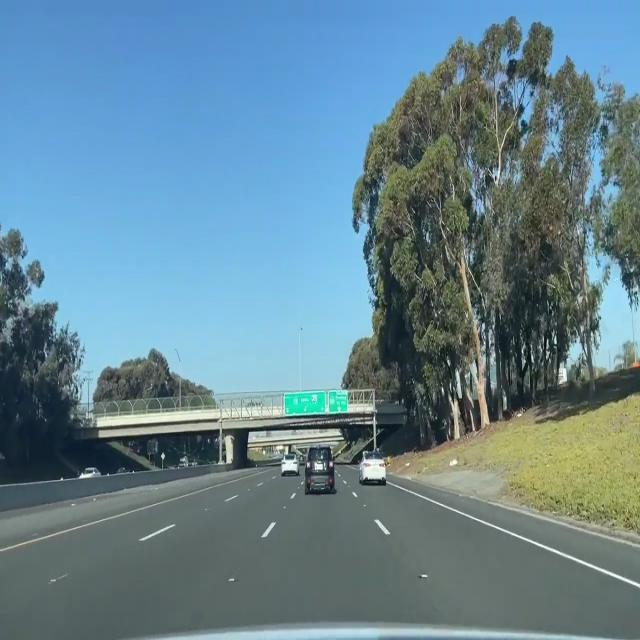street-signs: (284, 391, 326, 415), (328, 389, 348, 414)
